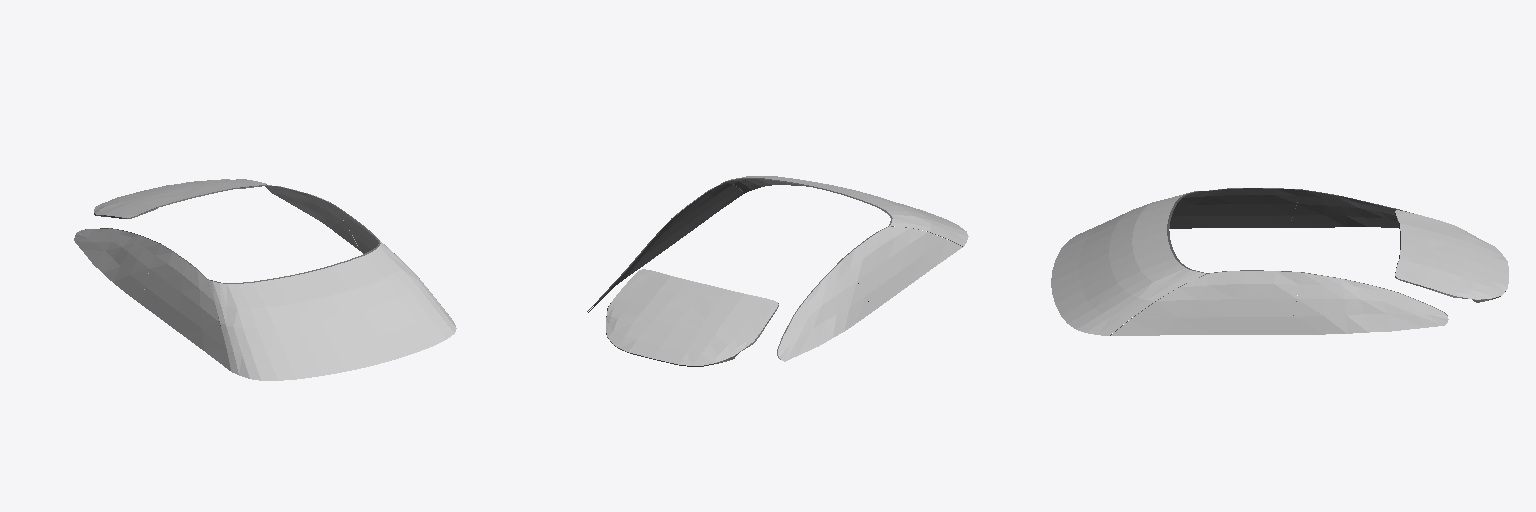
The model's file is sbrc_glass.obj.
3 views of the same model, side by side, from view 1: azimuth 30°, elevation 25°; view 2: azimuth 150°, elevation 25°; view 3: azimuth 270°, elevation 25° (orthographic).
Parts seen in each view (by area): view 1: sbrc_windshield_Mesh.220, sbrc_doorglass_R_Mesh.218, sbrc_sideglass_R_Mesh.211, sbrc_backlight_Mesh.221, sbrc_sideglass_L_int_Mesh.214, sbrc_doorglass_L_int_Mesh.216; view 2: sbrc_backlight_Mesh.221, sbrc_doorglass_R_Mesh.218, sbrc_sideglass_R_Mesh.211, sbrc_windshield_Mesh.220, sbrc_doorglass_L_int_Mesh.216, sbrc_windshield_int_Mesh.213, sbrc_sideglass_L_int_Mesh.214; view 3: sbrc_windshield_Mesh.220, sbrc_doorglass_L_Mesh.219, sbrc_backlight_Mesh.221, sbrc_sideglass_L_Mesh.215, sbrc_doorglass_R_int_Mesh.217, sbrc_sideglass_R_int_Mesh.212.
Part boxes in pixels (x1,y1,x2,y2): sbrc_windshield_Mesh.220: (208, 241, 456, 380); sbrc_doorglass_R_Mesh.218: (142, 244, 230, 370); sbrc_sideglass_R_Mesh.211: (74, 228, 159, 304); sbrc_backlight_Mesh.221: (94, 179, 265, 217); sbrc_sideglass_L_int_Mesh.214: (265, 185, 359, 250); sbrc_doorglass_L_int_Mesh.216: (330, 202, 378, 253); sbrc_backlight_Mesh.221: (606, 269, 778, 365); sbrc_doorglass_R_Mesh.218: (843, 226, 962, 310); sbrc_sideglass_R_Mesh.211: (778, 260, 872, 361); sbrc_windshield_Mesh.220: (721, 176, 968, 246); sbrc_doorglass_L_int_Mesh.216: (655, 183, 743, 256); sbrc_windshield_int_Mesh.213: (720, 178, 962, 246); sbrc_sideglass_L_int_Mesh.214: (588, 220, 671, 312); sbrc_windshield_Mesh.220: (1051, 191, 1205, 335); sbrc_doorglass_L_Mesh.219: (1111, 271, 1300, 335); sbrc_backlight_Mesh.221: (1395, 210, 1508, 299); sbrc_sideglass_L_Mesh.215: (1289, 272, 1448, 334); sbrc_doorglass_R_int_Mesh.217: (1170, 188, 1300, 228); sbrc_sideglass_R_int_Mesh.212: (1289, 190, 1400, 227).
Bounding box in the file's own units: 1.48 × 0.3436 × 2.68.